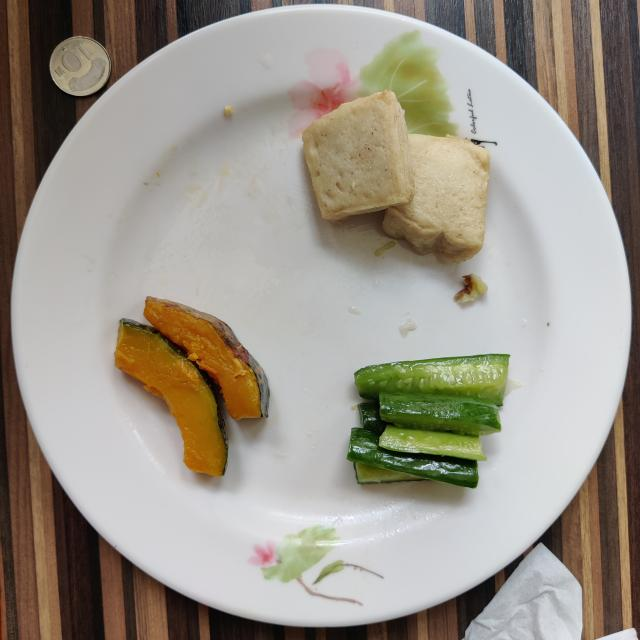coin: (50, 36, 111, 96)
creamy tofu -without sauce-: (302, 90, 490, 262)
cucumber: (348, 354, 509, 488)
pumpkin: (115, 296, 269, 476)
